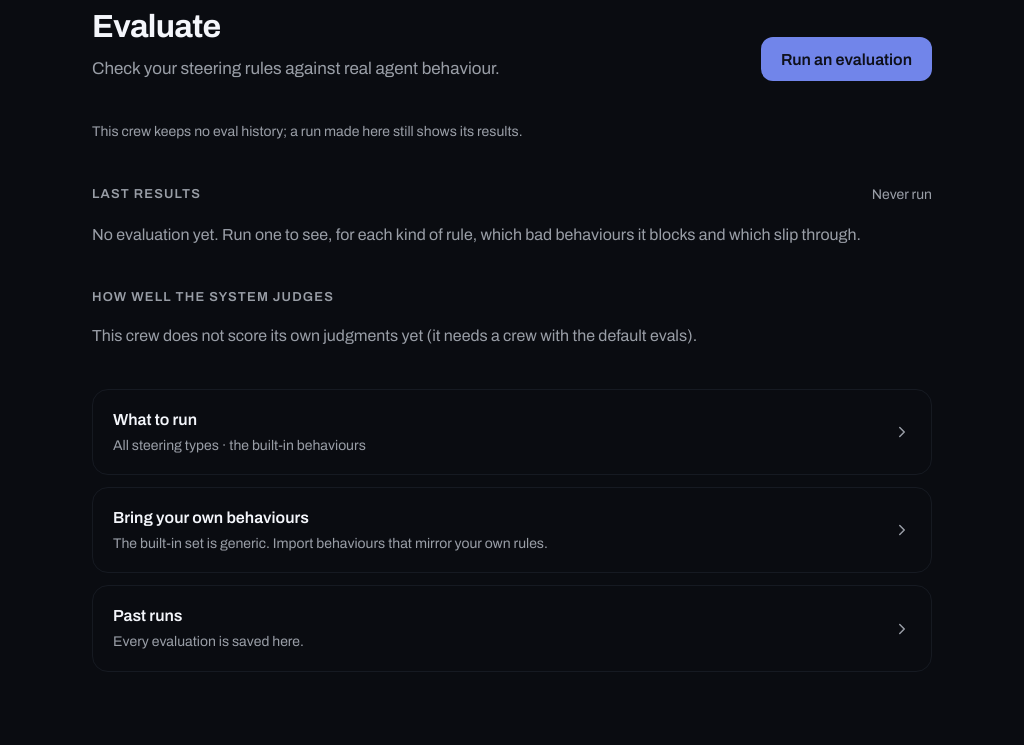
Test case: Evals — the run › a gap whose nearest_rules is EMPTY says "nothing nearby" in words — never a blank panel
The width and height of the screenshot is (1024, 745).
Click the button with test id "testing-evals-run": click(846, 59) top-left (761, 37), bottom-right (932, 81)
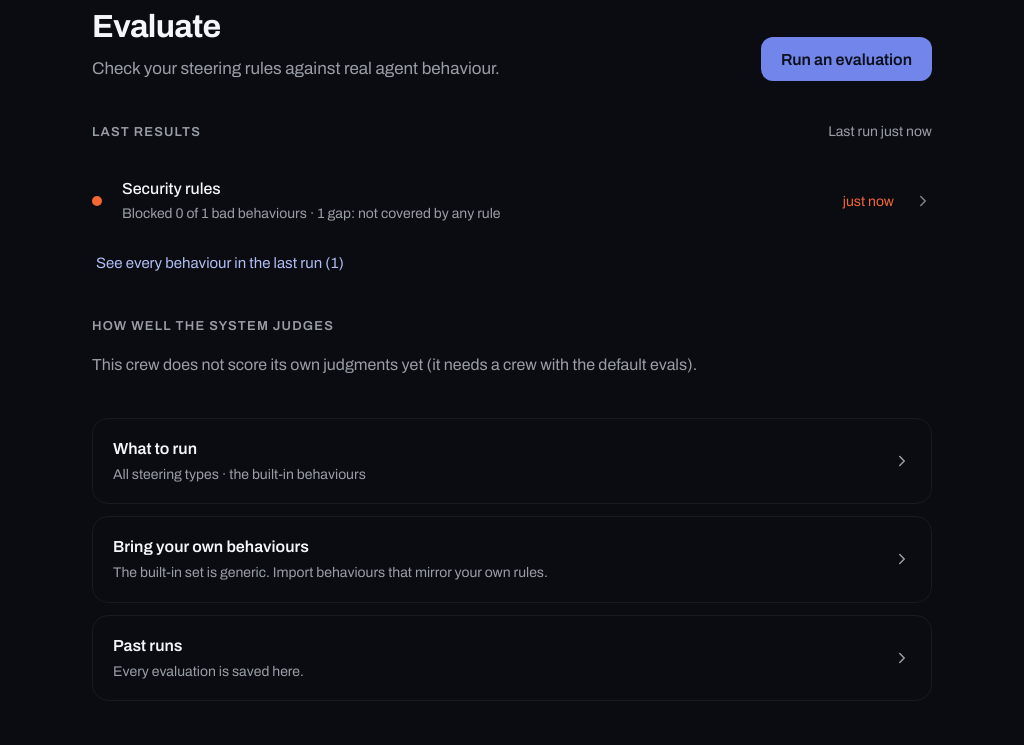
Click the button with test id "evaluate-all-behaviours": click(220, 264) top-left (92, 250), bottom-right (348, 277)
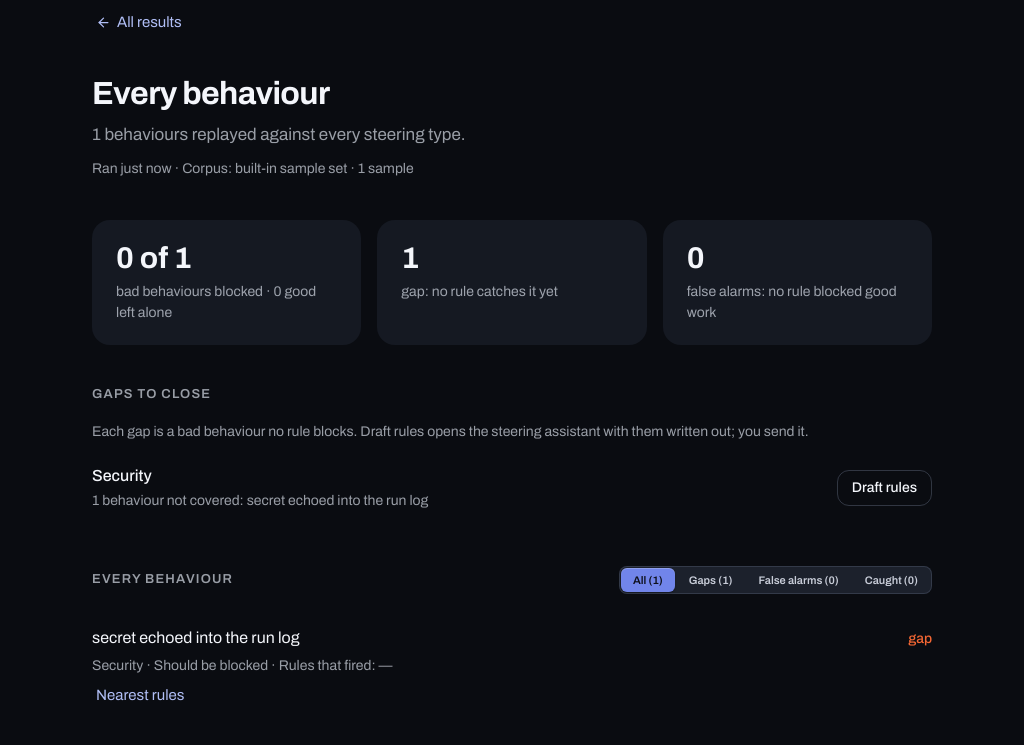
Click the button with test id "testing-evals-gap-toggle": click(140, 695) top-left (92, 682), bottom-right (188, 708)
(page scrolled)
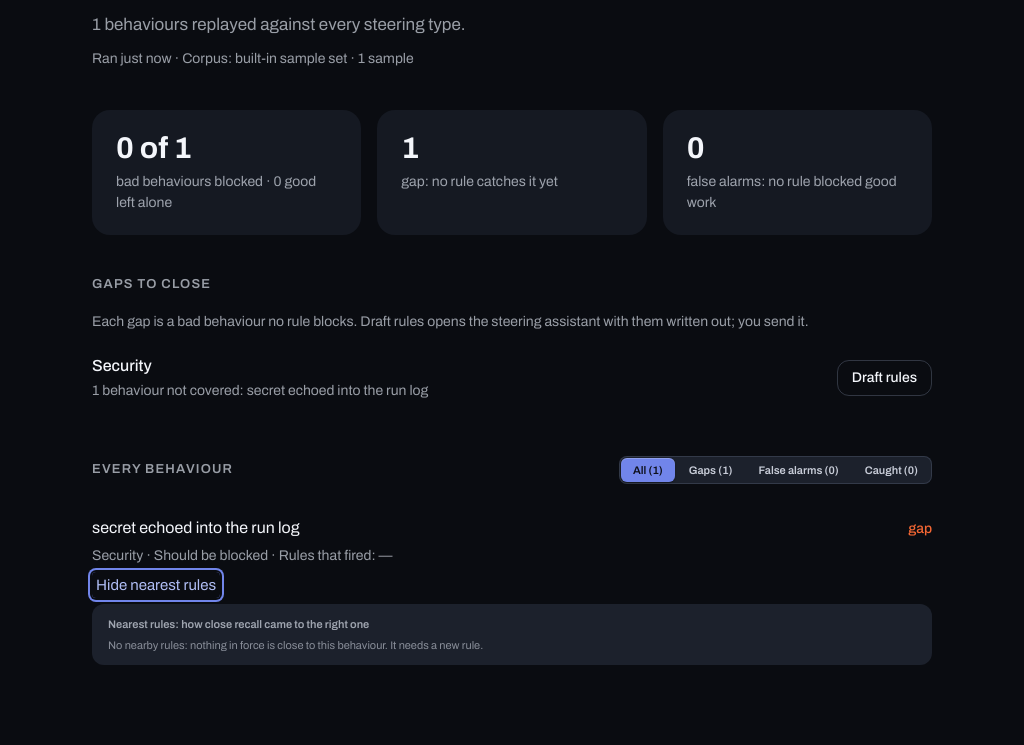
expect the text with test id "testing-evals-nearest-empty" shows "No nearby rules": met, box top-left (108, 639), bottom-right (483, 651)
